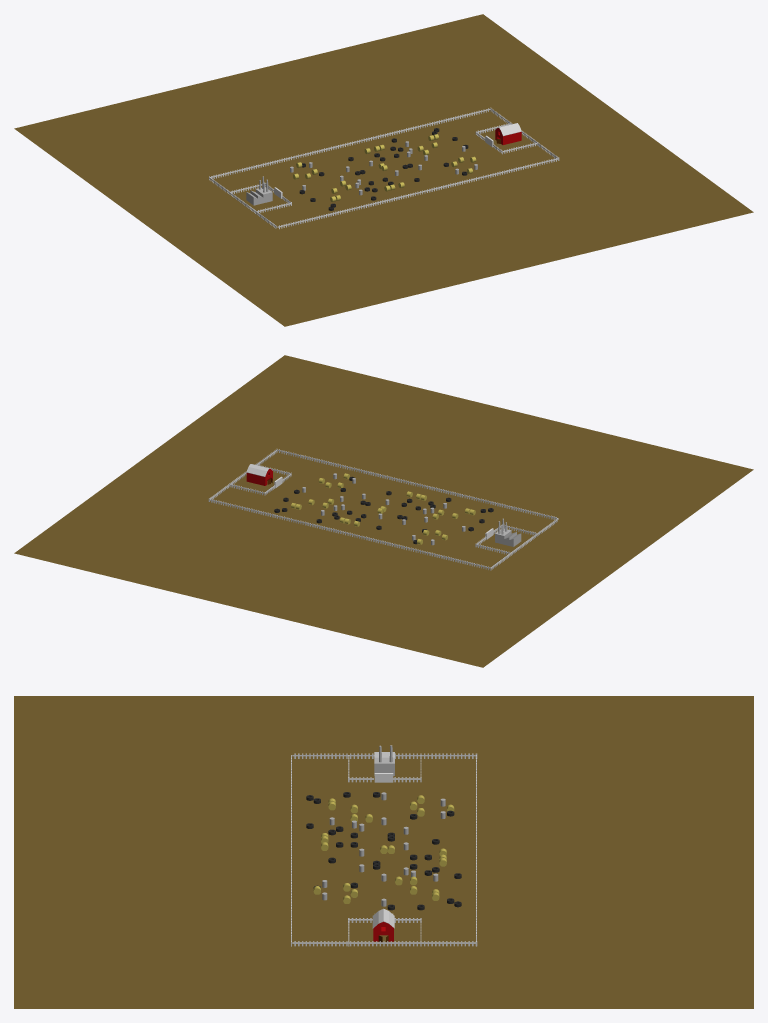
File: Map4.fbx
3 views of the same model, one above another, from view 1: azimuth 30°, elevation 25°; view 2: azimuth 150°, elevation 25°; view 3: azimuth 270°, elevation 25° (orthographic). The views are drawn at different scales.
Parts seen in each view (by area): view 1: Terrain, Barrieres, Obstacles; view 2: Terrain, Barrieres, Obstacles; view 3: Terrain, Obstacles, Barrieres, Ferme.
Boxes of the visible parts, x1=… form: Terrain: x1=14, y1=14, x2=753, y2=326; Barrieres: x1=209, y1=107, x2=559, y2=229; Obstacles: x1=290, y1=128, x2=477, y2=210; Terrain: x1=14, y1=355, x2=753, y2=667; Barrieres: x1=208, y1=449, x2=558, y2=570; Obstacles: x1=274, y1=473, x2=493, y2=545; Terrain: x1=14, y1=696, x2=753, y2=1008; Obstacles: x1=306, y1=792, x2=461, y2=910; Barrieres: x1=291, y1=753, x2=477, y2=946; Ferme: x1=372, y1=908, x2=394, y2=942.
Bounding box in the file's own units: 200 × 9.78 × 200.
